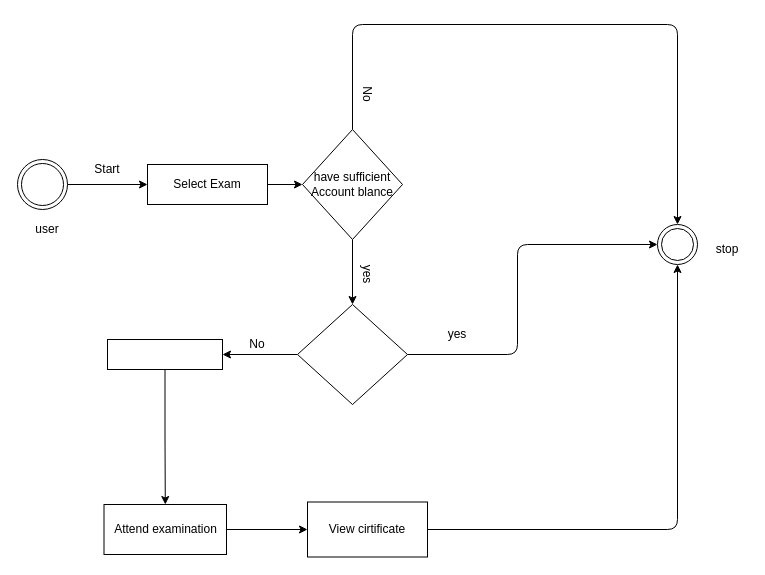
This 765x575 diagram has some shape labels left out. Here are the shapes that lost their labels. From the top down, the box of each, then its label:
(106, 338, 222, 370): pay amount
(296, 304, 408, 404): Already attend or not?
